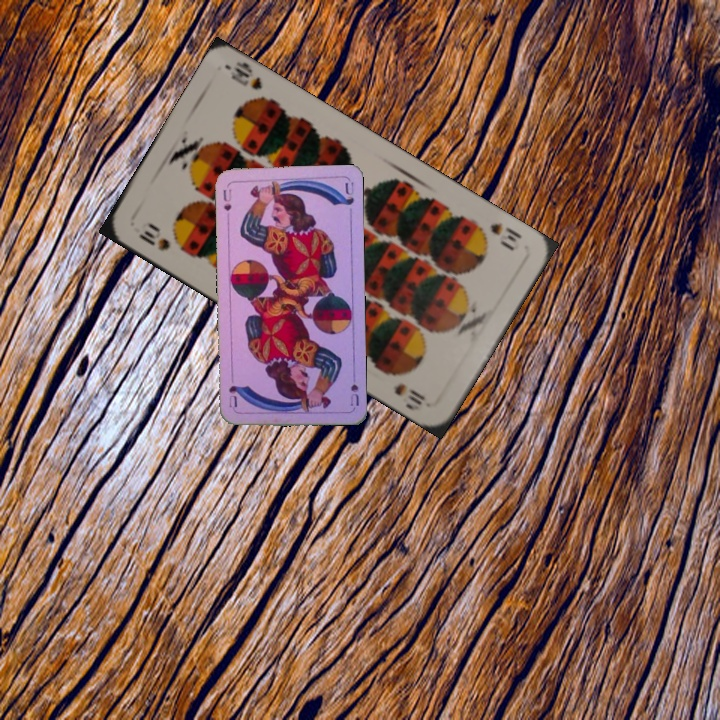S10: (471, 218, 524, 254), (134, 218, 173, 254)
SU: (346, 368, 361, 408), (219, 182, 234, 222)
